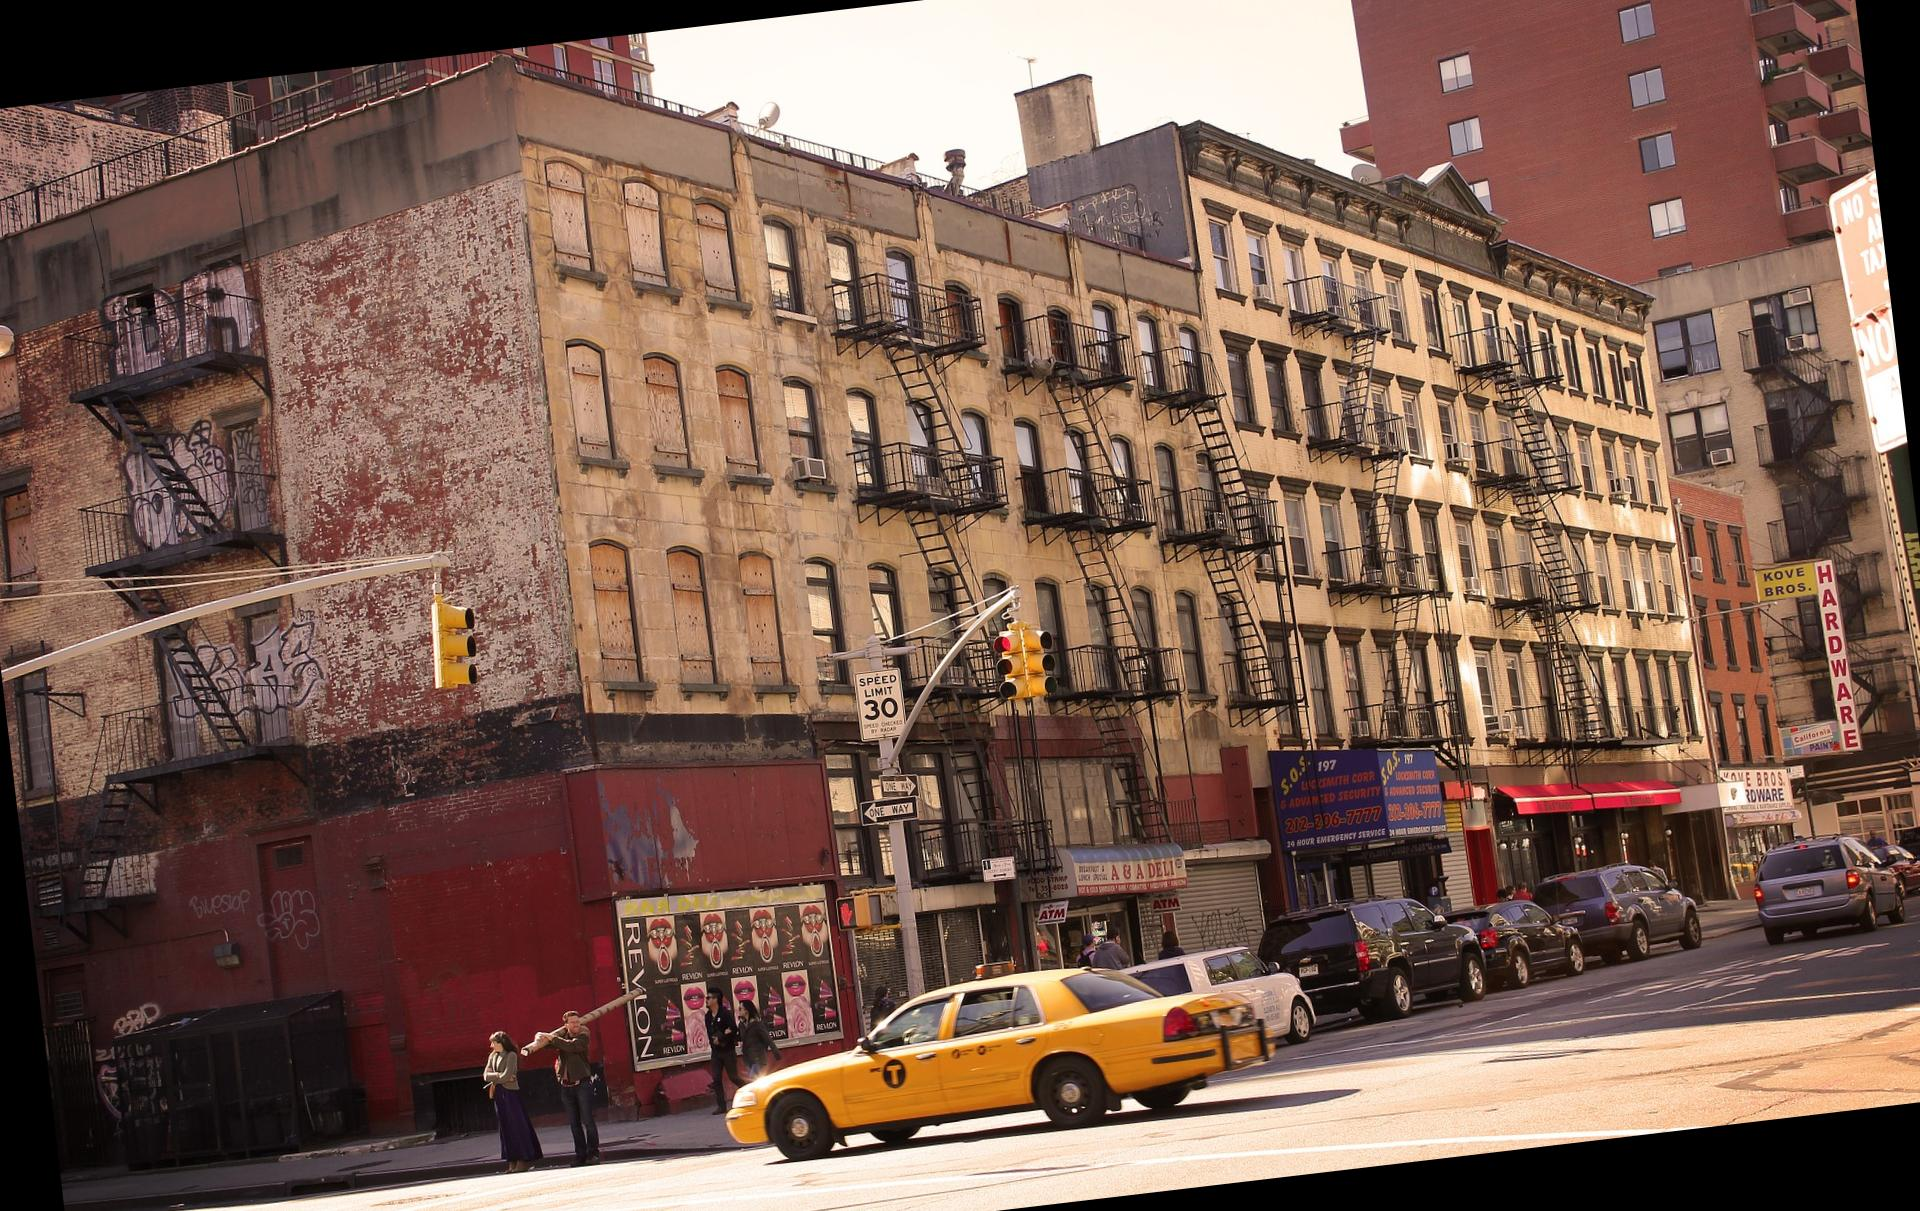taxi: (670, 1016, 1267, 1113)
